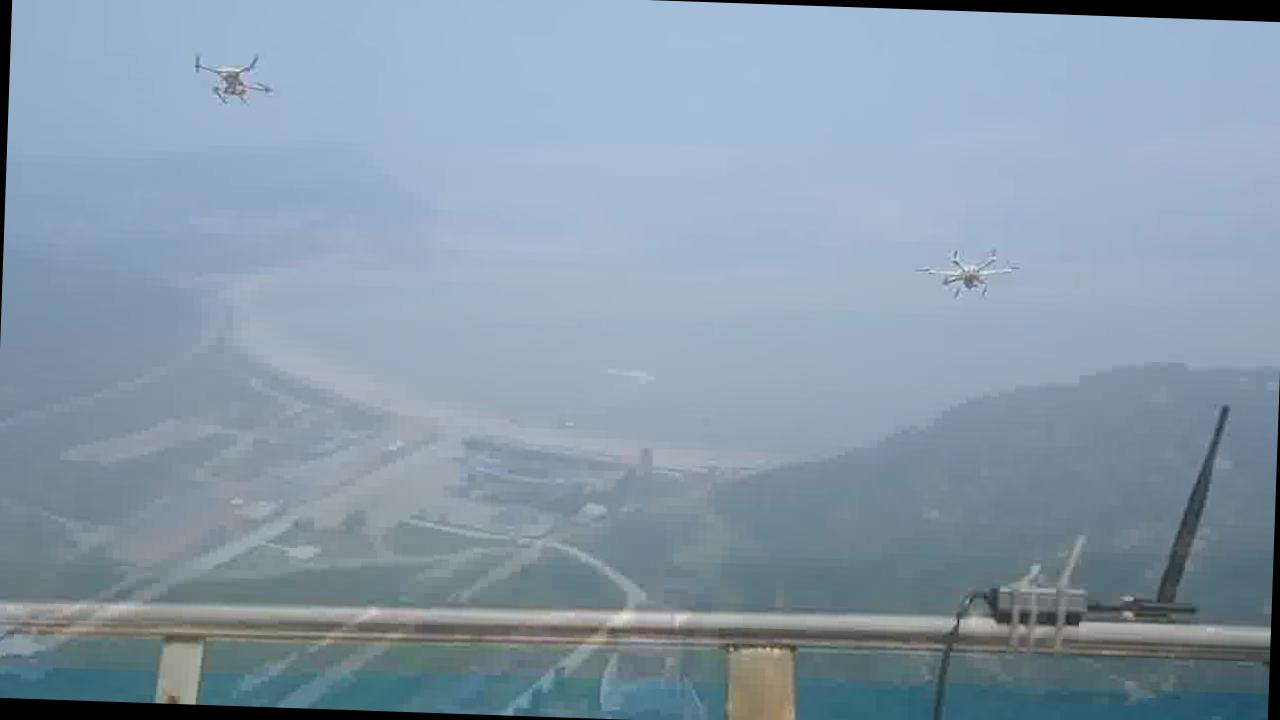drone: (919, 245, 1016, 303), (188, 47, 278, 109)
